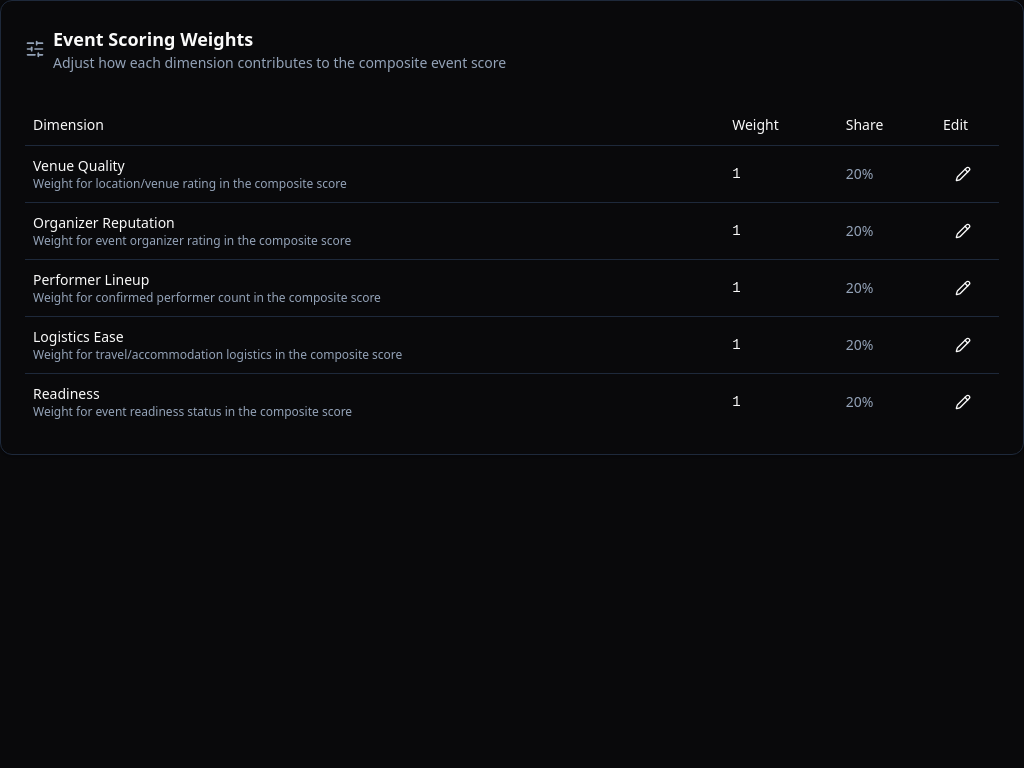
Test case: ScoringWeightsSection › shows validation error for negative weight
Click the button without text in the row of "Venue Quality" at (963,174), box [943,154,983,194]
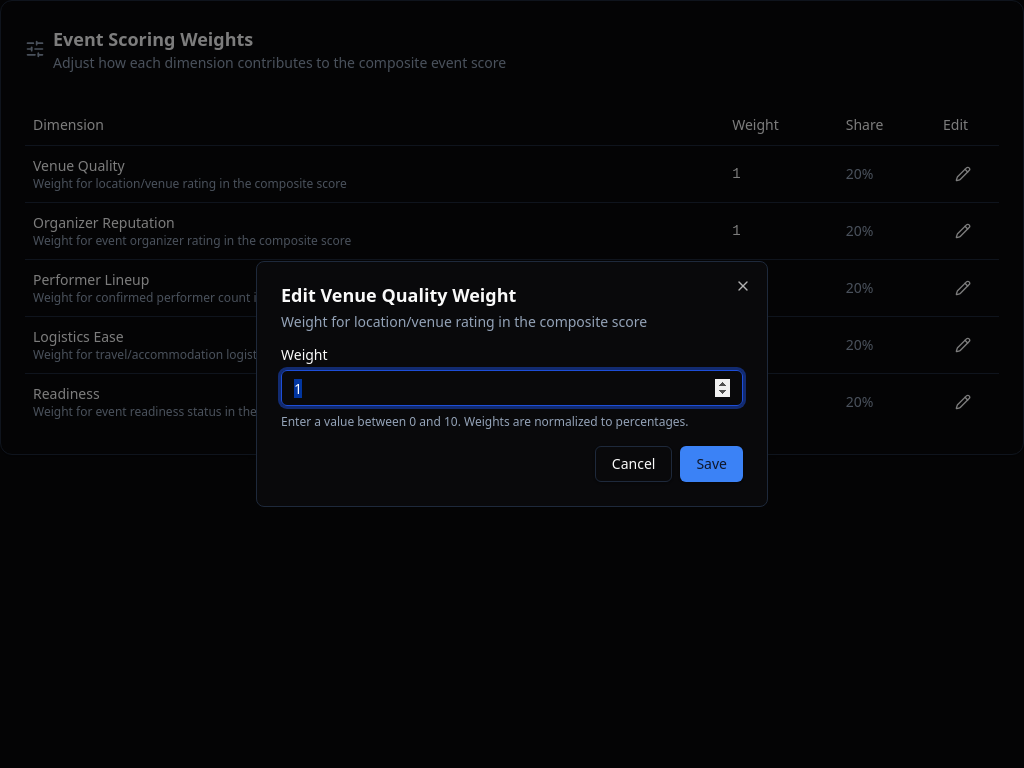
Replace the text in the number field labelled "Weight" with "-1" at (512,388), box [281,370,743,406]
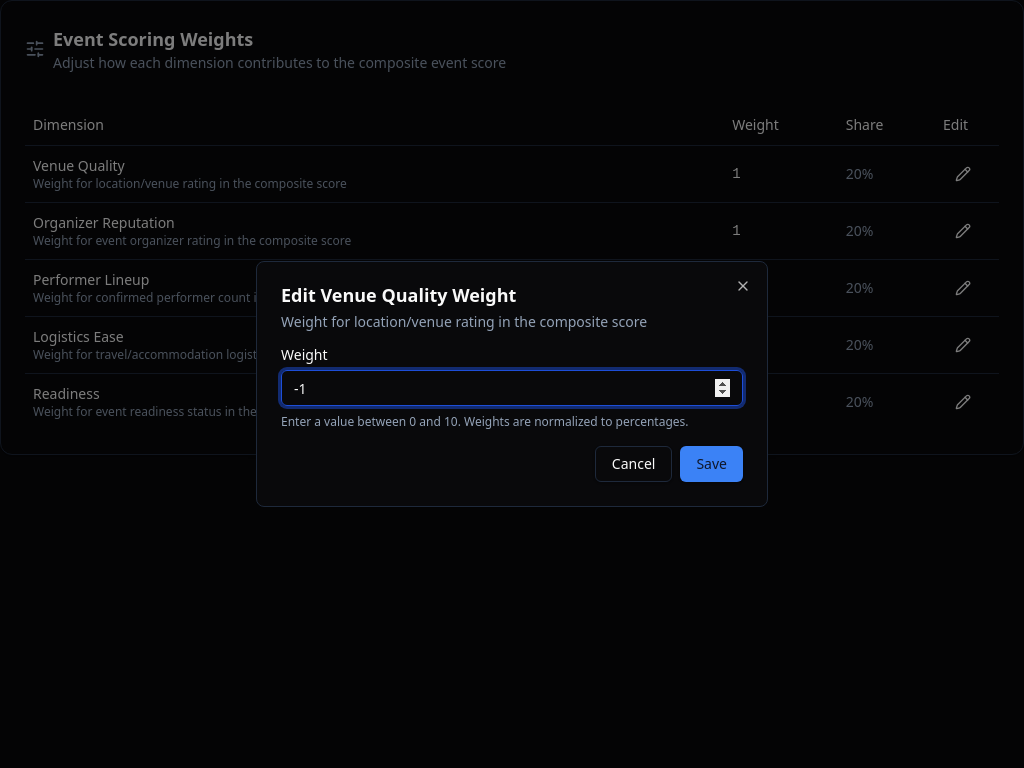
Click the button "Save" at (712,464), box [680,446,743,482]
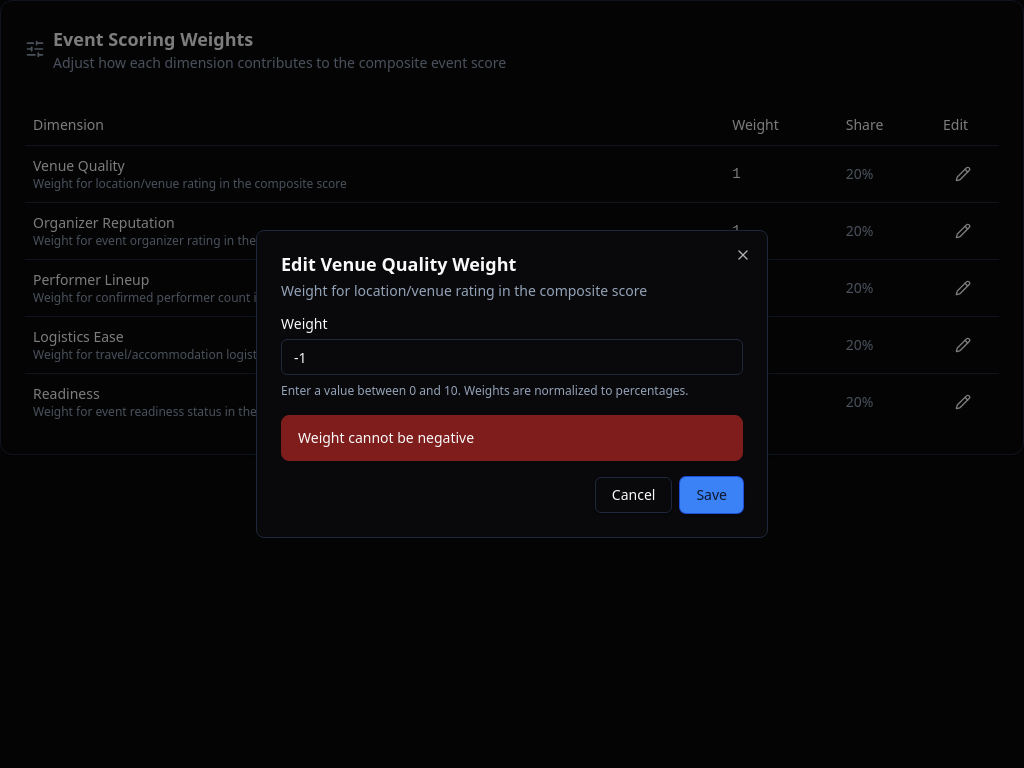
Result: the text "Weight cannot be negative" is shown at [298,428,474,447]
